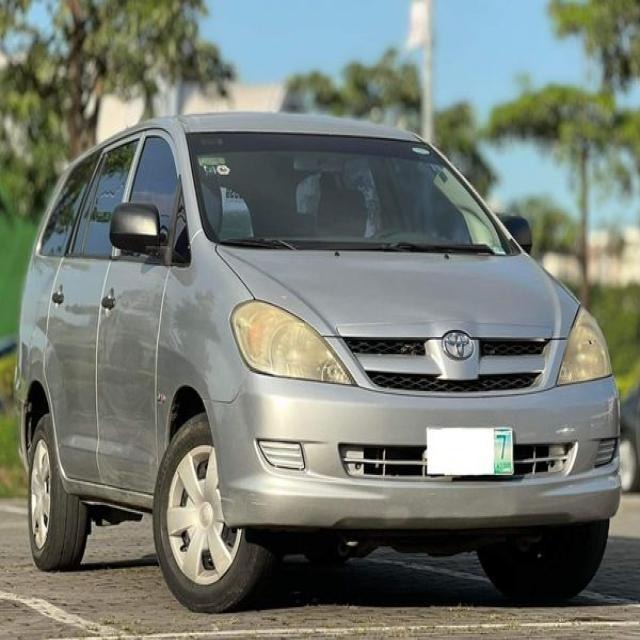light_vehicle: (13, 111, 623, 614)
